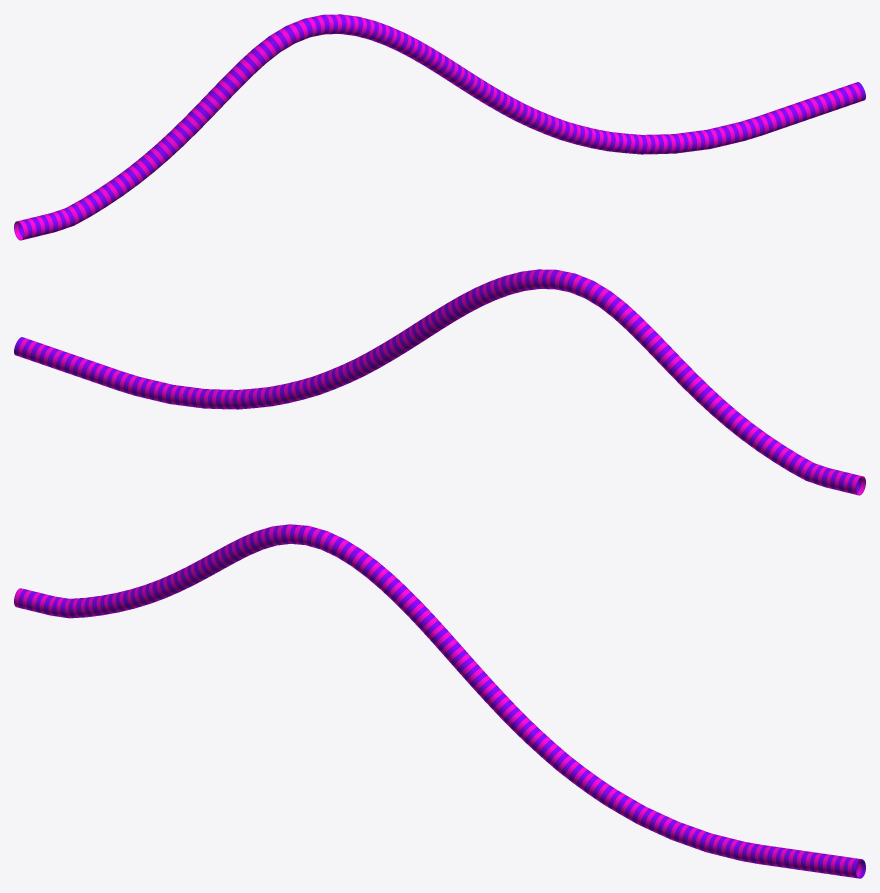
The model's file is ramp.fbx.
The picture shows the model from 3 angles, top to bottom: view 1: azimuth 30°, elevation 25°; view 2: azimuth 150°, elevation 25°; view 3: azimuth 330°, elevation 25°; orthographic projection.
Visible parts, largest first — view 1: Cylinder; view 2: Cylinder; view 3: Cylinder.
Boxes of the visible parts, x1,y1,x2,y2 form: Cylinder: [14, 14, 865, 240]; Cylinder: [14, 269, 865, 495]; Cylinder: [14, 524, 865, 878].
Size of the model in its own units: 32867 by 8466 by 662.
Materials: 1 (1 with a texture image).
